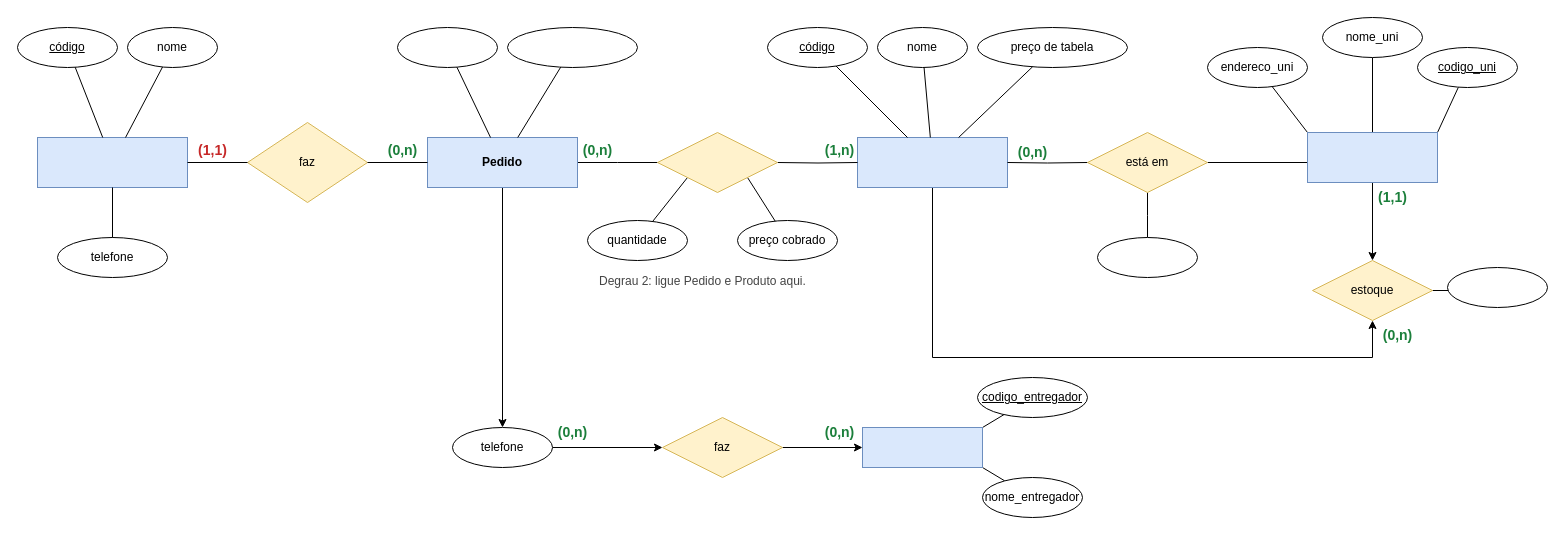
Some shapes in this 1565 by 535 pixel diagram are drawn without their labels. The box of each missing label's shape, as (x1, y1, x2, y2) in pixels:
Cliente: (36, 136, 188, 188)
contém: (656, 132, 778, 192)
data e hora: (506, 26, 638, 68)
Endereço: (862, 426, 982, 468)
número: (396, 26, 498, 68)
Produto: (856, 136, 1008, 188)
quantidade em estoque: (1446, 266, 1548, 308)
quantidade estoque: (1096, 236, 1198, 278)
Unidade: (1306, 132, 1438, 182)
